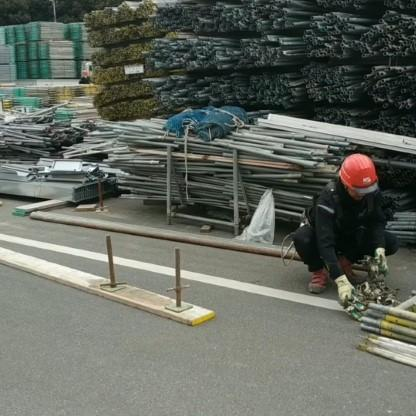helmet: (320, 142, 382, 206)
